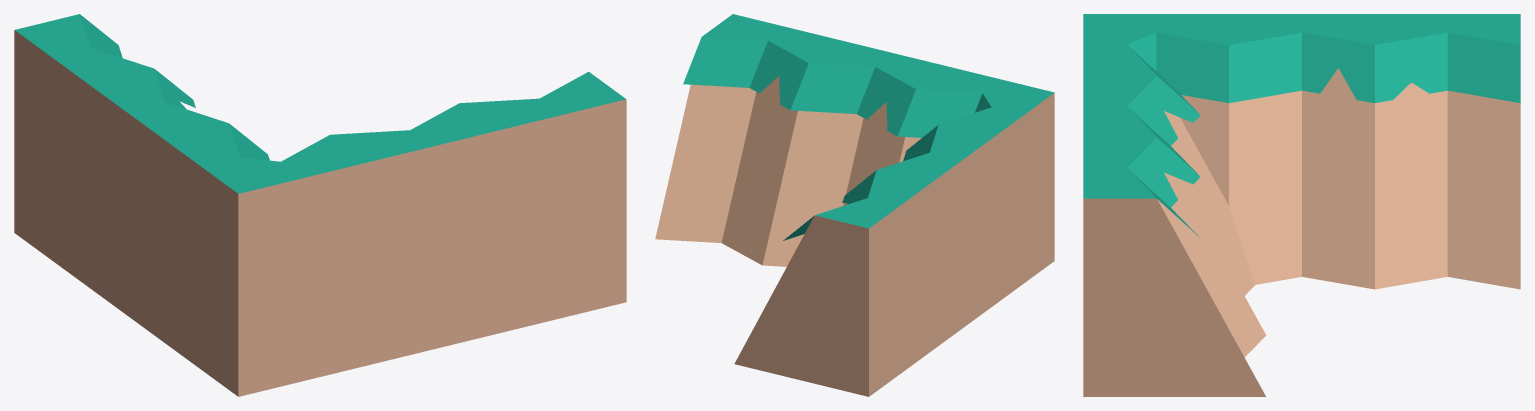
File: cliff_halfCornerInner_rock.glb
The picture shows the model from 3 angles, left to right: view 1: azimuth 30°, elevation 25°; view 2: azimuth 150°, elevation 25°; view 3: azimuth 270°, elevation 25°; orthographic projection. The views are drawn at different scales.
Parts seen in each view (by area): view 1: cliff_halfCornerInner_rock; view 2: cliff_halfCornerInner_rock; view 3: cliff_halfCornerInner_rock.
Boxes of the visible parts, x1,y1,x2,y2 form: cliff_halfCornerInner_rock: (14,14,626,396); cliff_halfCornerInner_rock: (655,14,1054,396); cliff_halfCornerInner_rock: (1083,14,1520,396).
Size of the model in its own units: 1 by 0.5 by 1.
